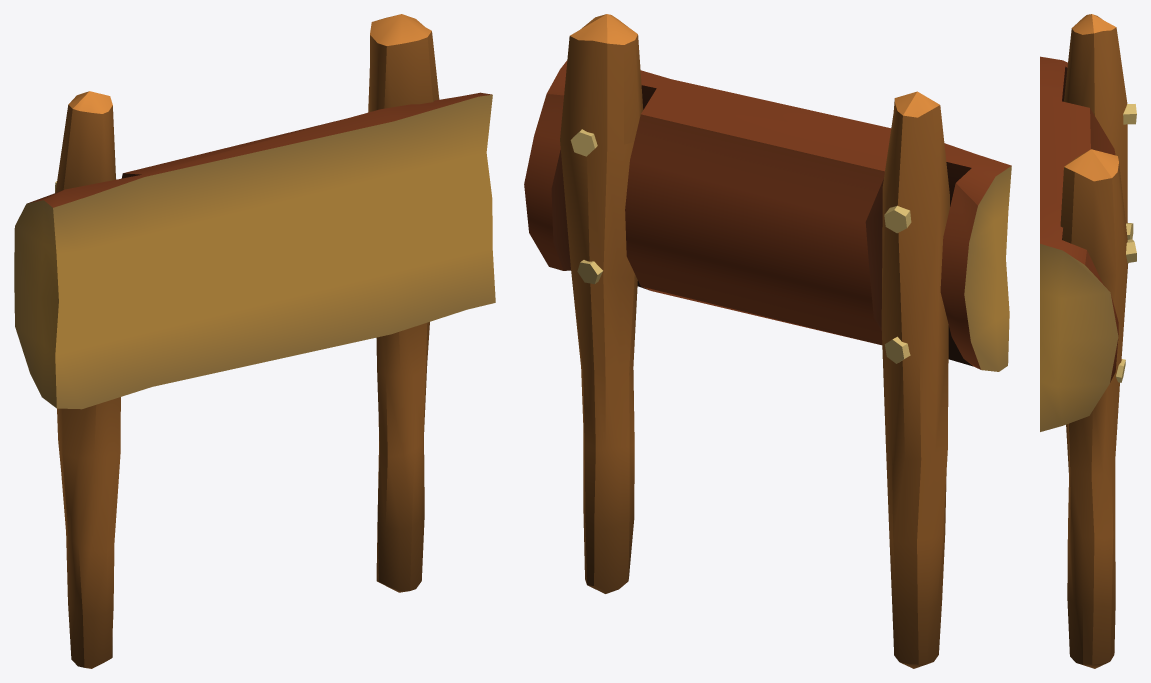
Rendered from Sign1.fbx.
3 views of the same model, side by side, from view 1: azimuth 30°, elevation 25°; view 2: azimuth 150°, elevation 25°; view 3: azimuth 270°, elevation 25° (orthographic). The views are drawn at different scales.
Parts seen in each view (by area): view 1: Sign1; view 2: Sign1; view 3: Sign1.
Part boxes in pixels (x1,y1,x2,y2): Sign1: [14, 14, 495, 668]; Sign1: [524, 14, 1011, 668]; Sign1: [1040, 14, 1136, 668].
Size of the model in its own units: 474 by 590 by 99.57.
